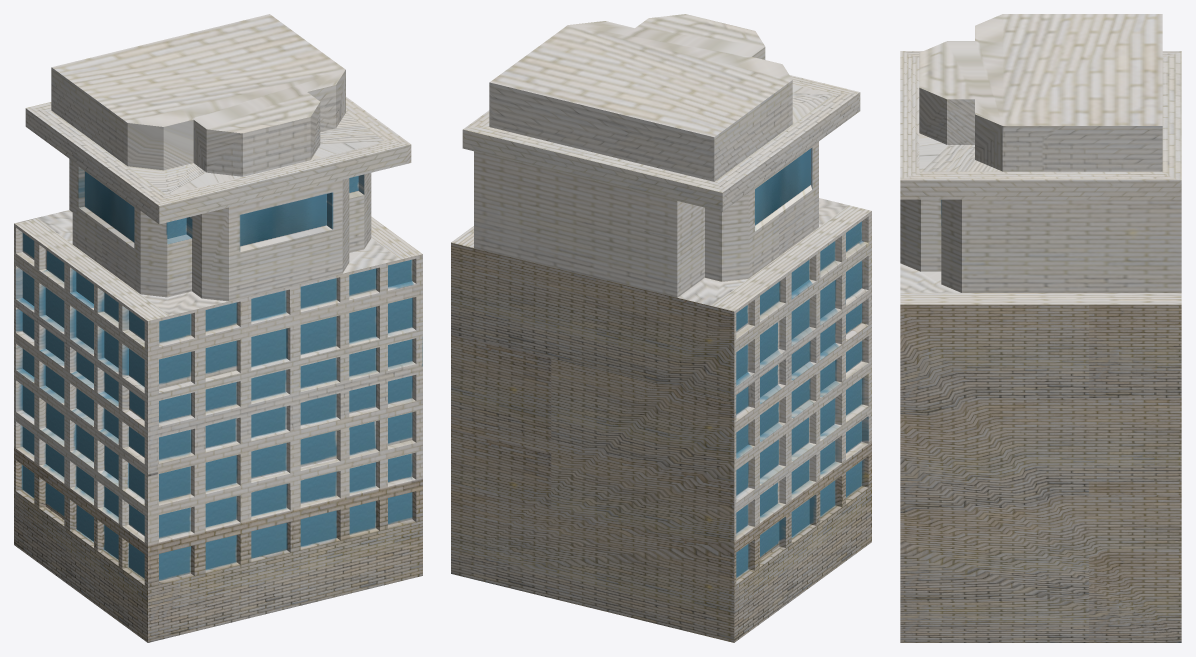
File: building2.fbx
3 views of the same model, side by side, from view 1: azimuth 30°, elevation 25°; view 2: azimuth 150°, elevation 25°; view 3: azimuth 270°, elevation 25° (orthographic). The views are drawn at different scales.
Parts seen in each view (by area): view 1: pCube1; view 2: pCube1; view 3: pCube1.
Part boxes in pixels (x1=…): pCube1: x1=14, y1=14, x2=422, y2=642; pCube1: x1=451, y1=14, x2=871, y2=642; pCube1: x1=900, y1=14, x2=1181, y2=642.
Size of the model in its own units: 3.49 by 5.8 by 2.94.
